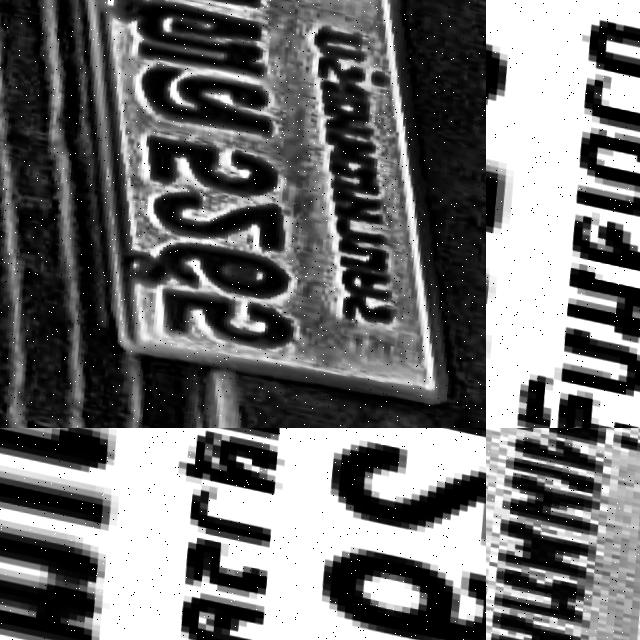license-plate: (26, 0, 486, 415), (0, 428, 486, 640), (486, 0, 640, 428), (486, 428, 640, 640)
